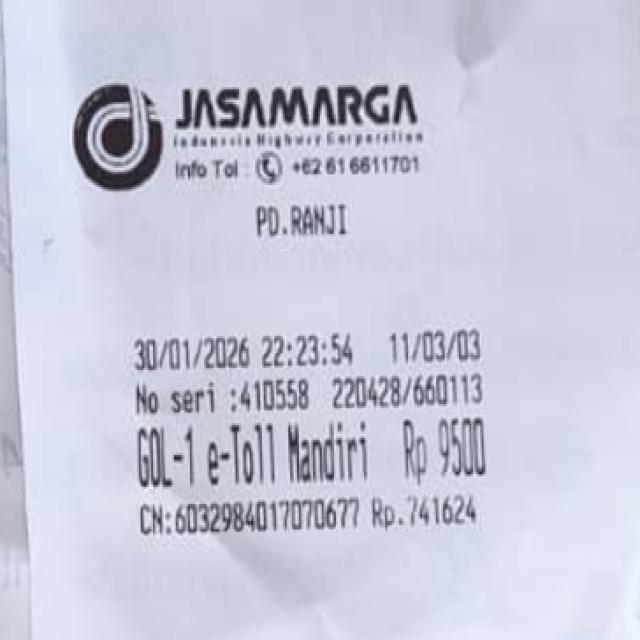date: (137, 332, 360, 376)
store: (156, 71, 432, 151)
total: (398, 414, 498, 481)
